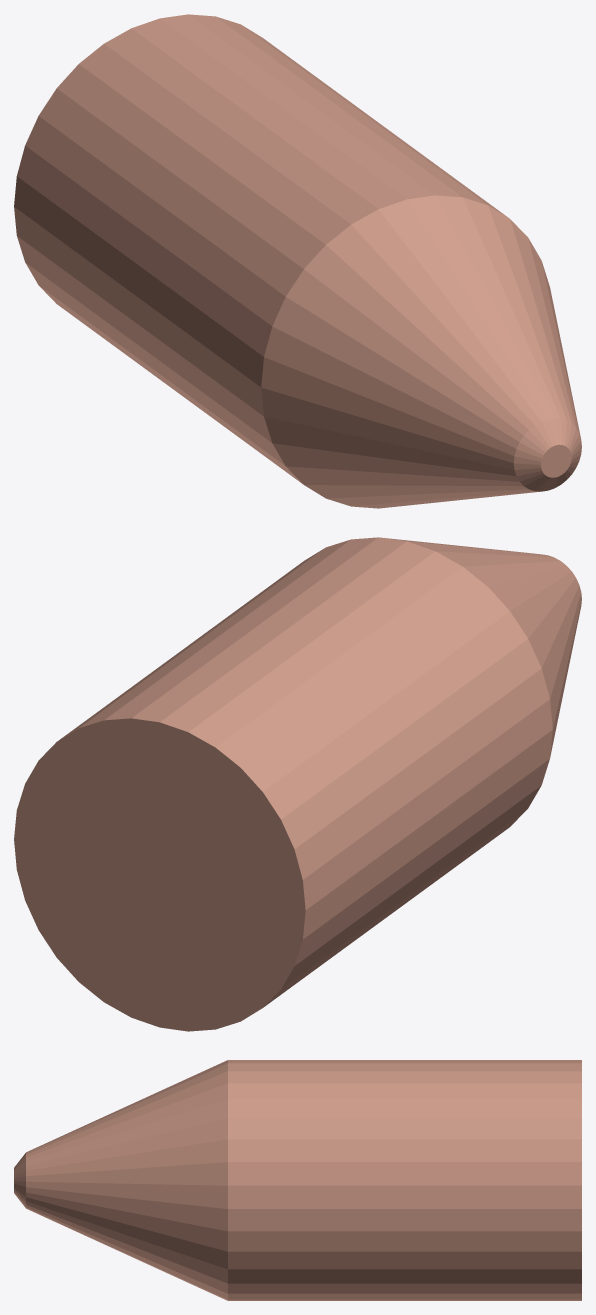
The model's file is 22_bullet_projectile.glb.
The picture shows the model from 3 angles, top to bottom: view 1: azimuth 30°, elevation 25°; view 2: azimuth 150°, elevation 25°; view 3: azimuth 270°, elevation 25°; orthographic projection. The views are drawn at different scales.
Parts seen in each view (by area): view 1: Cylinder; view 2: Cylinder; view 3: Cylinder.
Part boxes in pixels (bbox=[...]): Cylinder: bbox=[14, 14, 581, 508]; Cylinder: bbox=[14, 537, 581, 1031]; Cylinder: bbox=[14, 1060, 581, 1300].
Size of the model in its own units: 0.256 by 0.256 by 0.6029.
